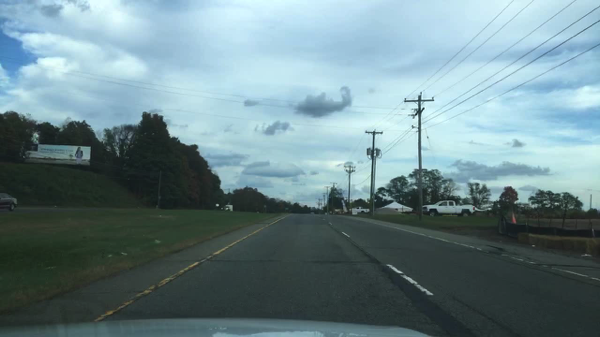car: (0, 191, 17, 213)
truck: (422, 197, 476, 219), (350, 206, 368, 214), (221, 205, 233, 212)
